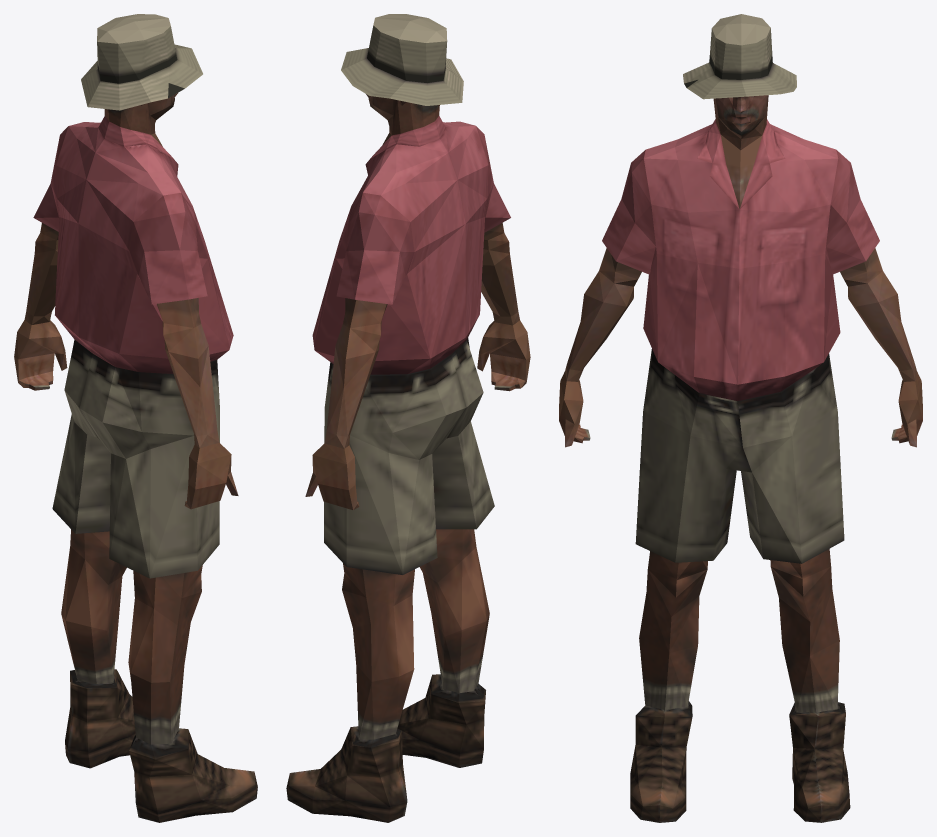
The model's file is hmogar.obj.
The picture shows the model from 3 angles, left to right: view 1: azimuth 30°, elevation 25°; view 2: azimuth 150°, elevation 25°; view 3: azimuth 270°, elevation 25°; orthographic projection.
Visible parts, largest first — view 1: _Pelvis; view 2: _Pelvis; view 3: _Pelvis.
Boxes of the visible parts, bbox=[...] form: _Pelvis: bbox=[14, 14, 257, 822]; _Pelvis: bbox=[286, 14, 530, 822]; _Pelvis: bbox=[559, 14, 922, 822].
Size of the model in its own units: 0.3525 by 1.85 by 0.7976.
Materials: 1 (1 with a texture image).
